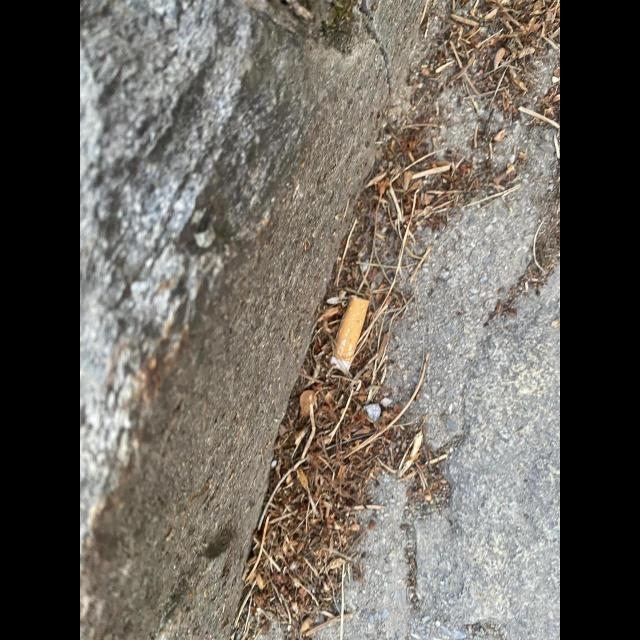cigarette: (330, 295, 370, 376)
